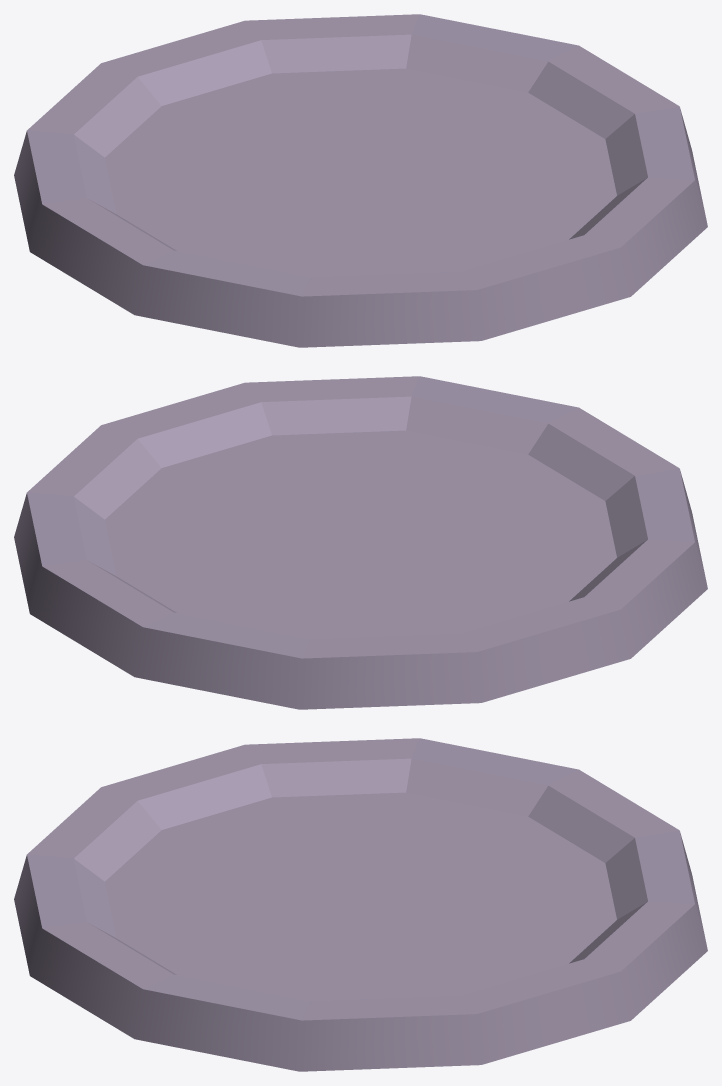
Rendered from Teller.FBX.
3 views of the same model, one above another, from view 1: azimuth 30°, elevation 25°; view 2: azimuth 150°, elevation 25°; view 3: azimuth 270°, elevation 25° (orthographic).
Visible parts, largest first — view 1: Teller; view 2: Teller; view 3: Teller.
Boxes of the visible parts, x1,y1,x2,y2 form: Teller: [14, 14, 707, 347]; Teller: [14, 376, 707, 709]; Teller: [14, 738, 707, 1071].
Bounding box in the file's own units: 14.28 × 1.04 × 14.28.
